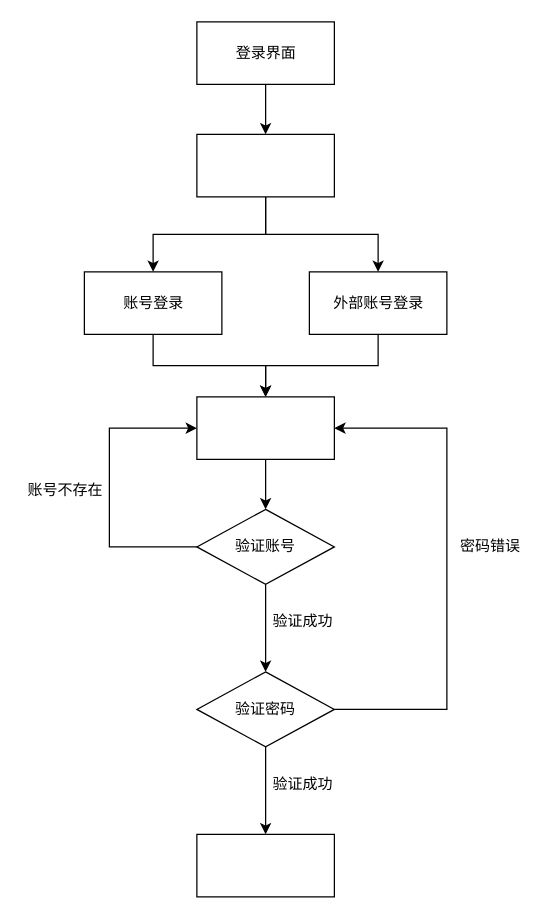
This 555x919 diagram has some shape labels left out. Here are the shapes that lost their labels. From the top down, the centre of each, then its label:
At (x=265, y=165): "选择登录方式".
At (x=265, y=427): "输入账号密码".
At (x=265, y=865): "登录成功".
